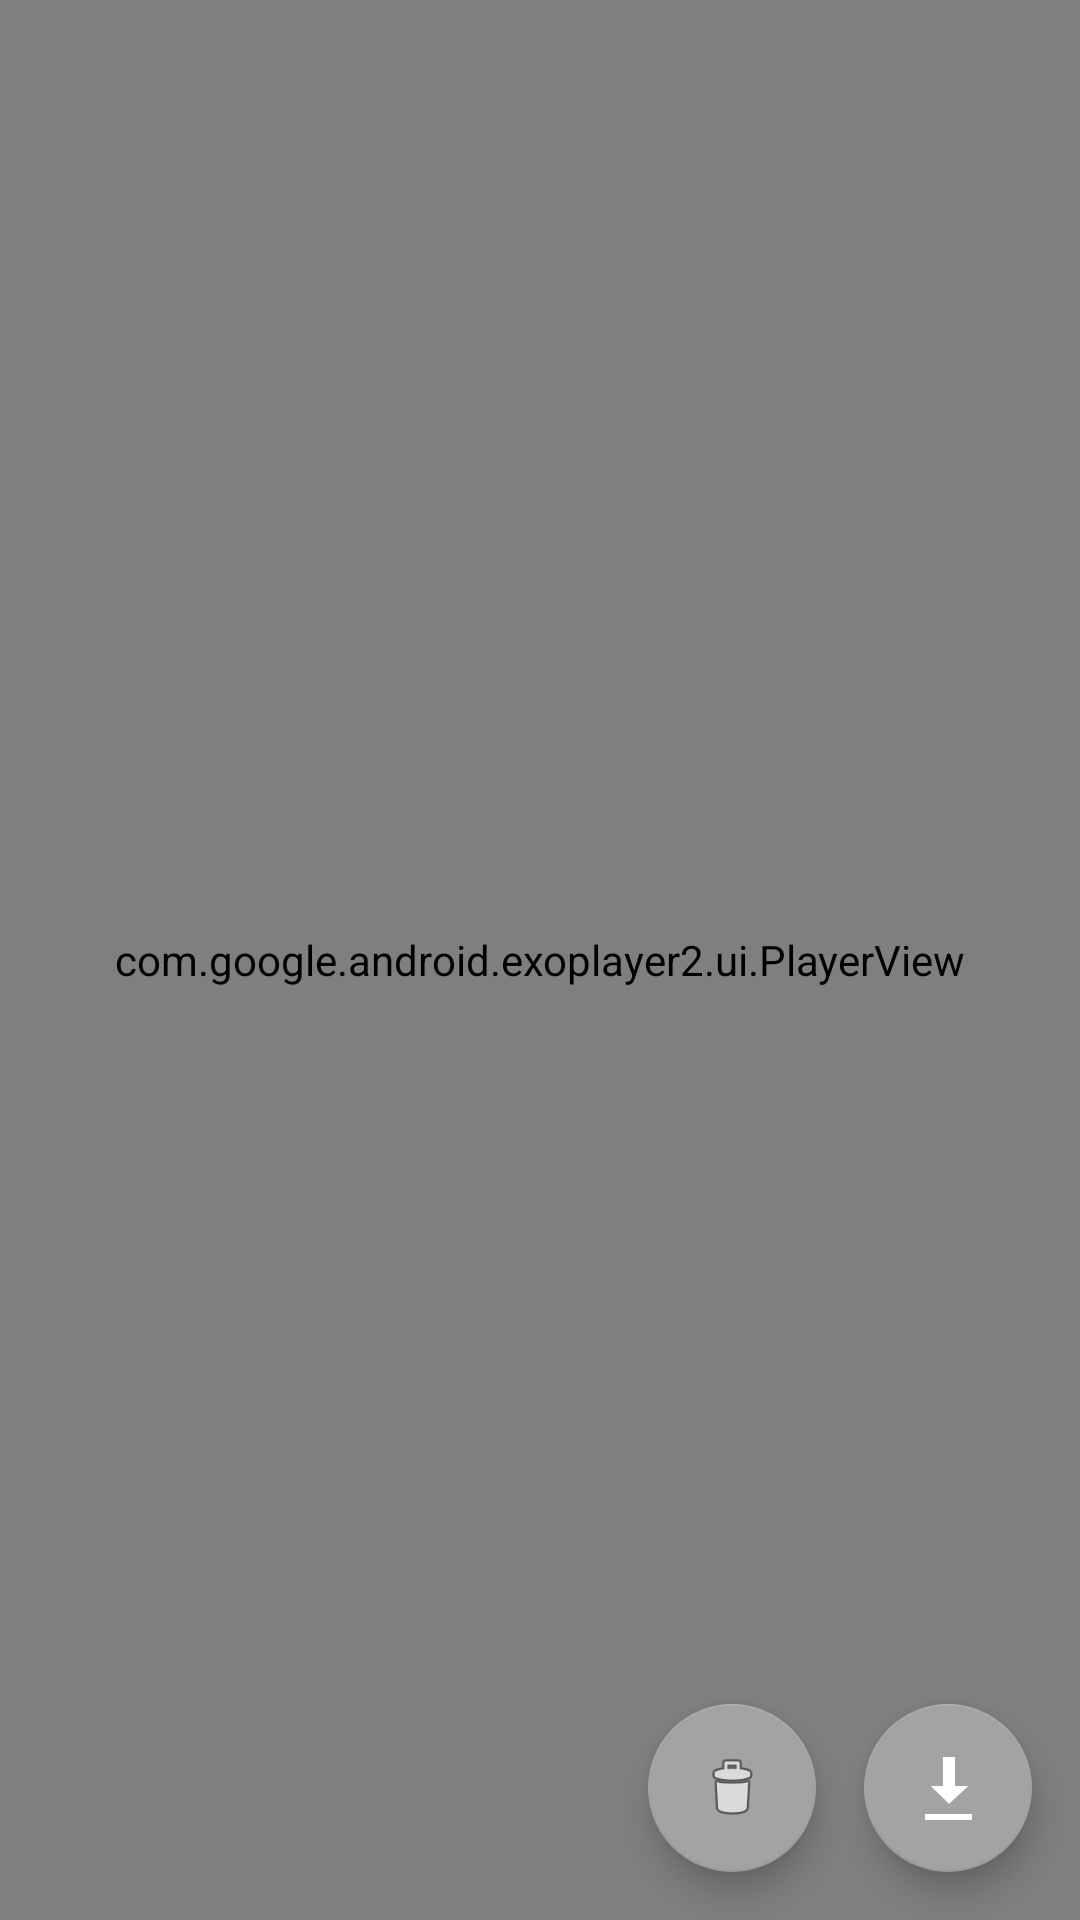

Screen size 1080×1920. Icon name, then its center in pixels as [x,y]:
delete: [732,1788]
download: [948,1788]
